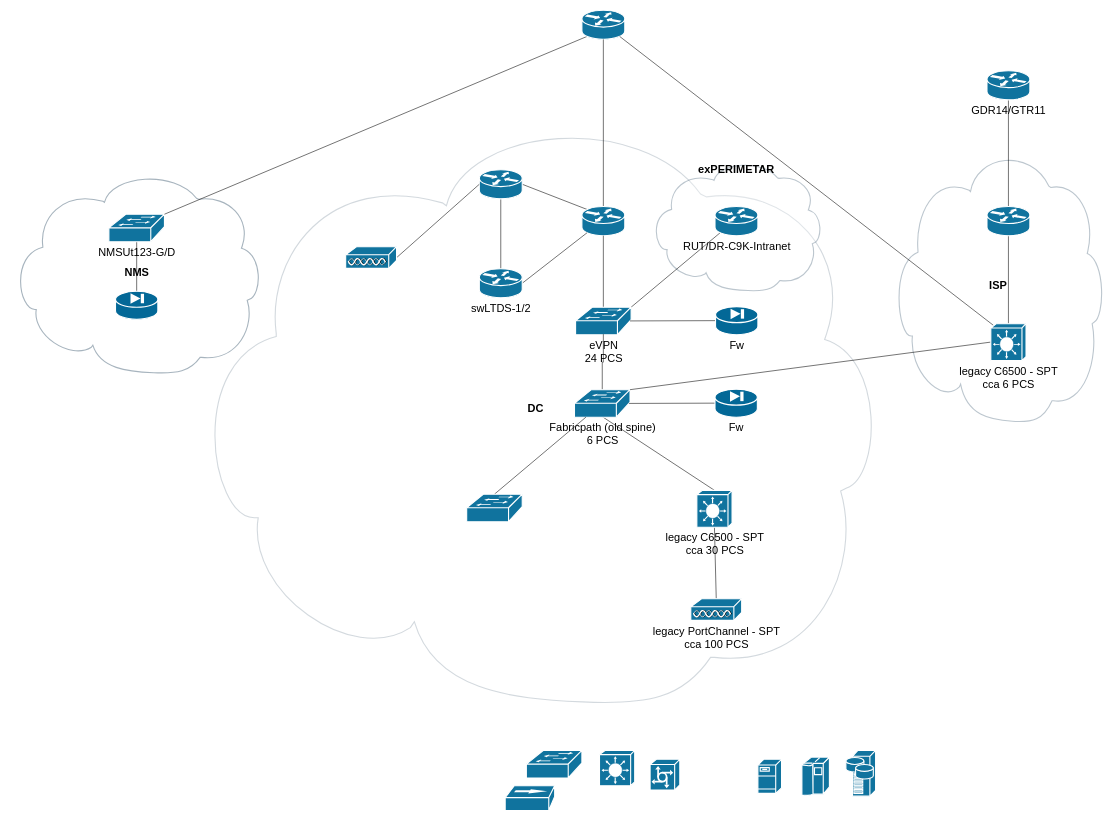
Image size: 1115x820. Some labels were removed from this diagram. The centre of each missing label's shape, as x and y in pixels:
"FwDrNMS" belongs at (136,305).
"GUT03/04" belongs at (1008,221).
"GUT20/21" belongs at (603,24).
"legacy PortChannel - SPT cca 20 PCS" belongs at (371,257).
"rTD-6503-1/2" belongs at (500,184).
"RUT-C9K-1/2" belongs at (603,221).
"vPC (old leaf) cca 10 PCS" belongs at (494,507).
